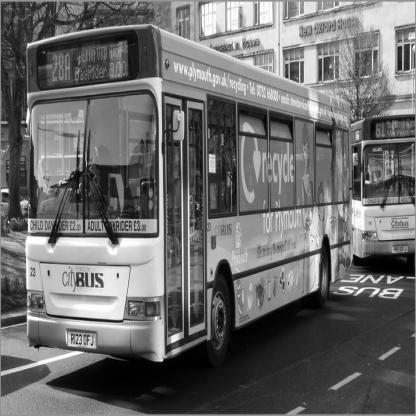bus: (3, 20, 365, 374), (352, 100, 416, 269)
